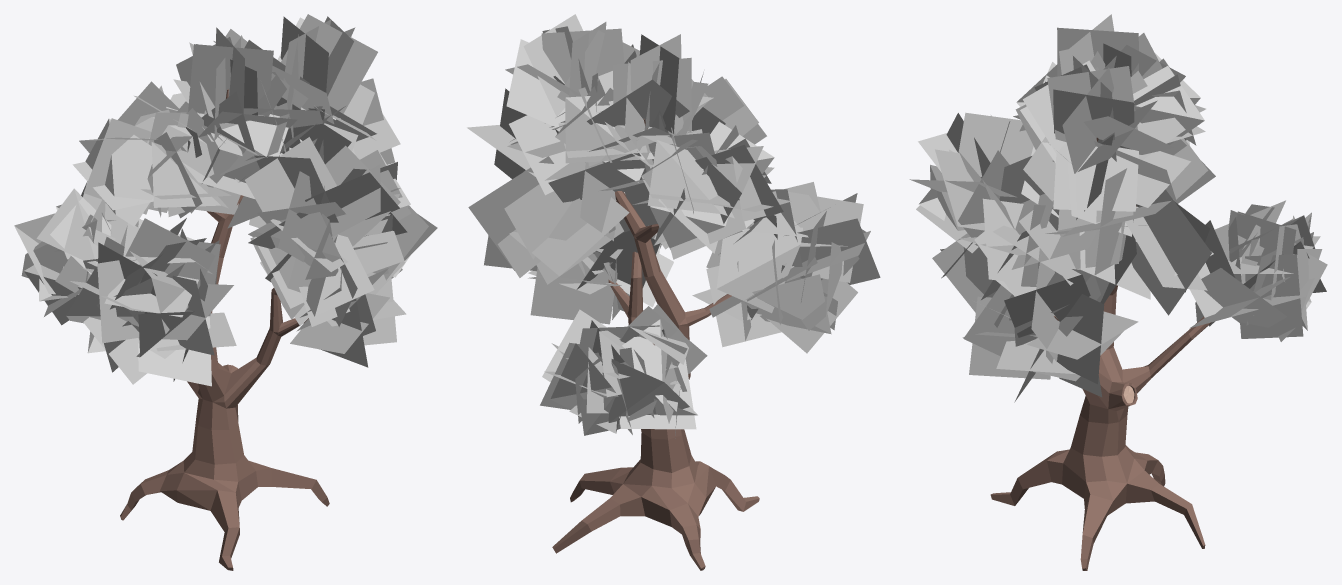
Rendered from Tree_Hero.fbx.
3 views of the same model, side by side, from view 1: azimuth 30°, elevation 25°; view 2: azimuth 150°, elevation 25°; view 3: azimuth 270°, elevation 25° (orthographic). The views are drawn at different scales.
Parts seen in each view (by area): view 1: Tree_Hero_LOD0; view 2: Tree_Hero_LOD0; view 3: Tree_Hero_LOD0.
Part boxes in pixels (left/top/right/bottom): Tree_Hero_LOD0: left=14, top=14, right=437, bottom=570; Tree_Hero_LOD0: left=467, top=14, right=880, bottom=570; Tree_Hero_LOD0: left=909, top=14, right=1327, bottom=570.
Size of what is drawn, in the model's own units: 1981 by 2515 by 1902.
